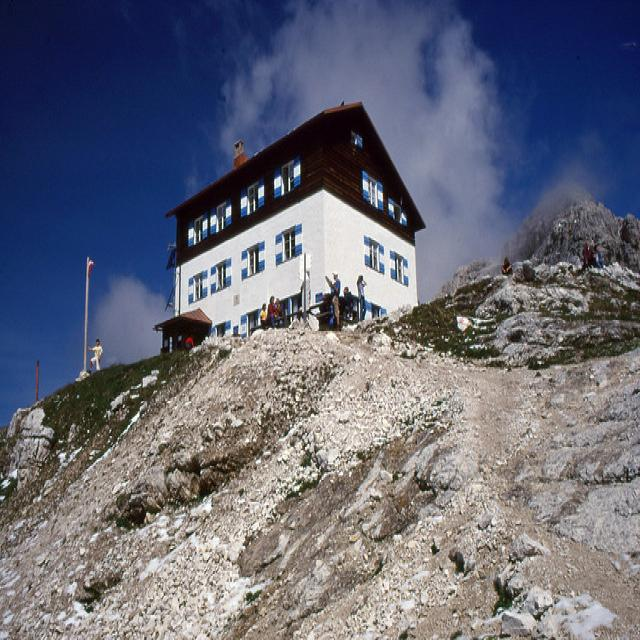building: (155, 97, 423, 363)
